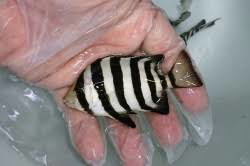azi: (56, 50, 193, 125)
